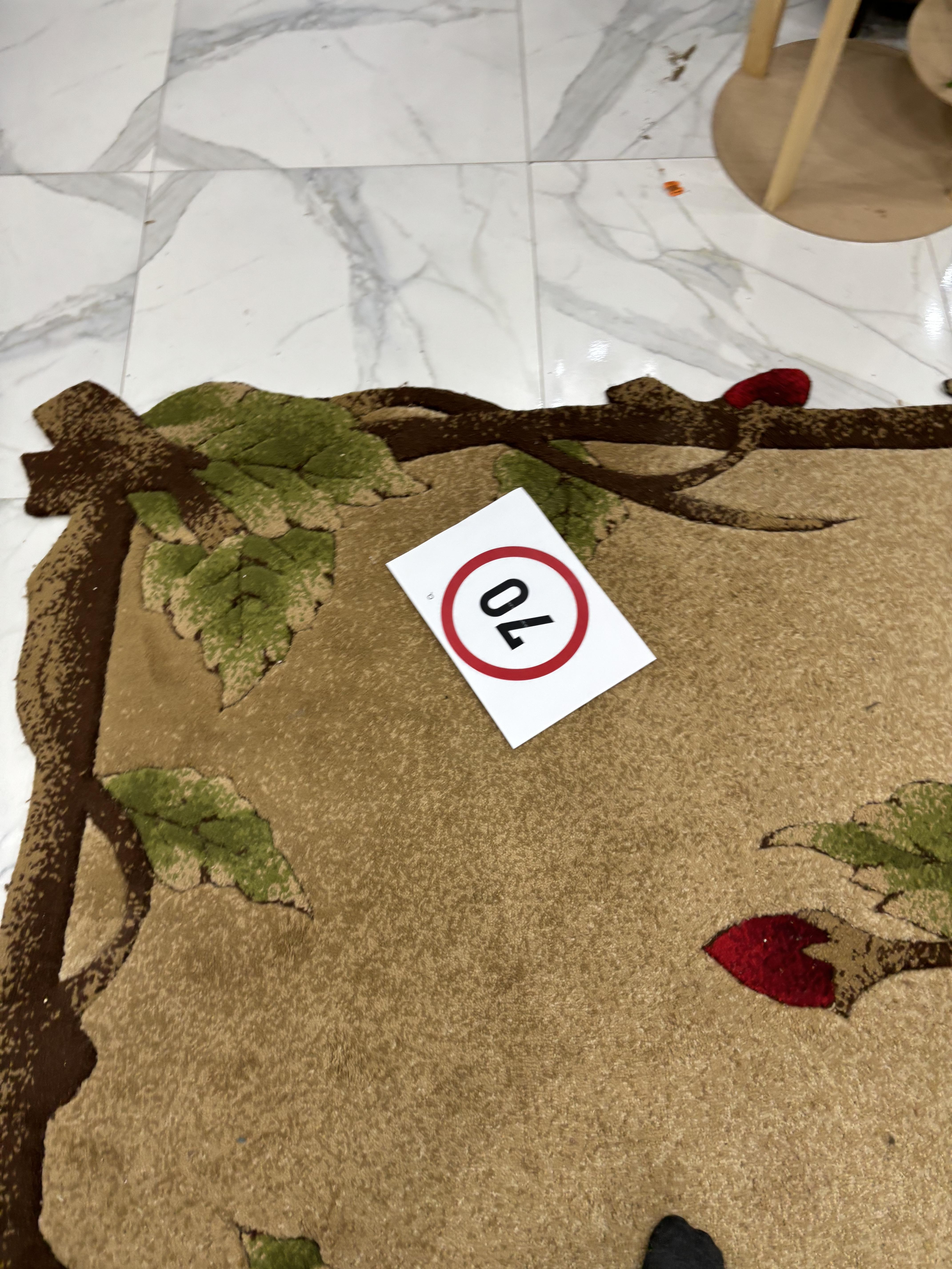70-Speed: (437, 542, 590, 683)
